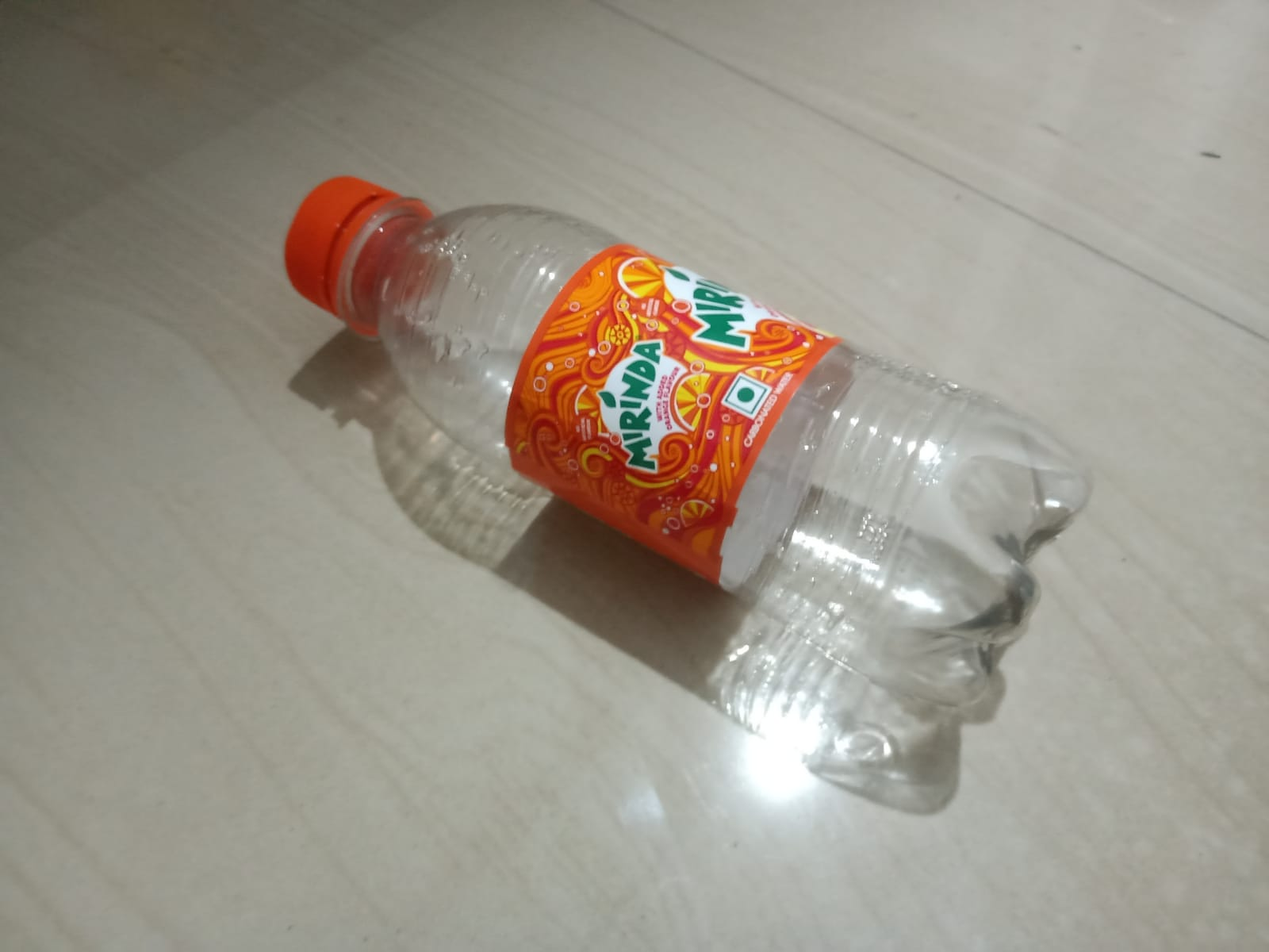plastic: (219, 163, 1107, 697)
